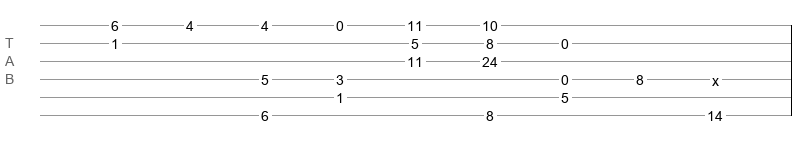0: (336, 18, 344, 28), (561, 72, 569, 82), (561, 36, 569, 46)
1: (111, 36, 119, 46), (336, 90, 344, 100)
10: (482, 18, 498, 28)
11: (407, 18, 423, 28), (407, 54, 423, 64)
14: (707, 108, 723, 118)
24: (482, 54, 498, 64)
3: (336, 72, 344, 82)
4: (186, 18, 194, 28), (261, 18, 269, 28)
5: (261, 72, 269, 82), (411, 36, 419, 46), (561, 90, 569, 100)
6: (111, 18, 119, 28), (261, 108, 269, 118)
8: (486, 36, 494, 46), (486, 108, 494, 118), (636, 72, 644, 82)
x: (712, 73, 719, 81)
